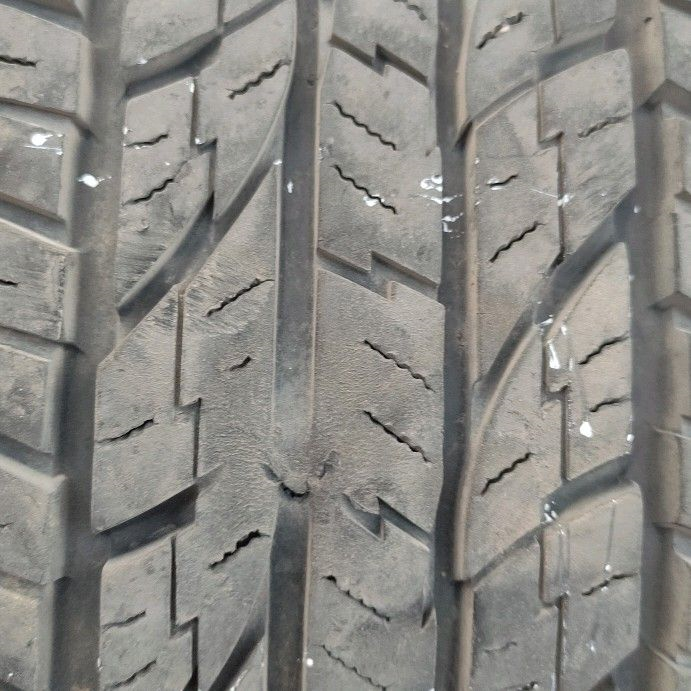tr: (254, 439, 345, 517)
